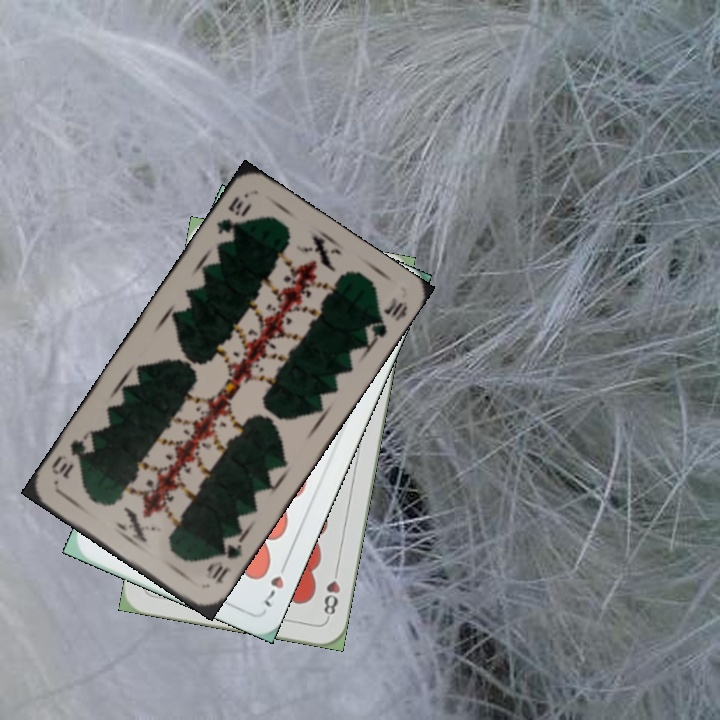G10: (203, 536, 245, 587), (212, 192, 254, 239)
H7: (259, 556, 291, 610)
H8: (319, 563, 343, 622)
